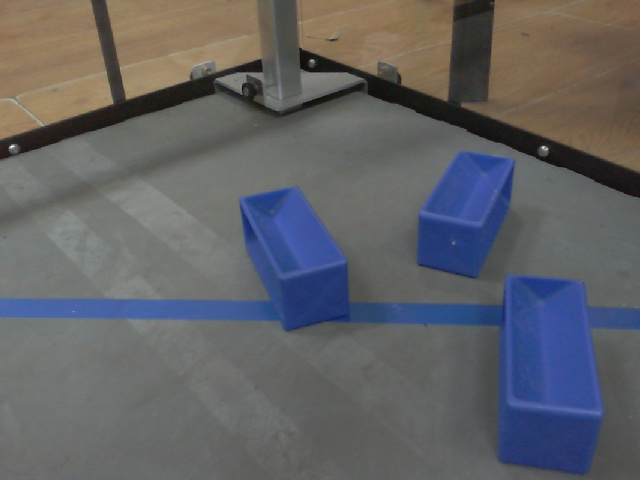BlueSample: (494, 268, 603, 479), (236, 186, 356, 340), (412, 146, 518, 285)
